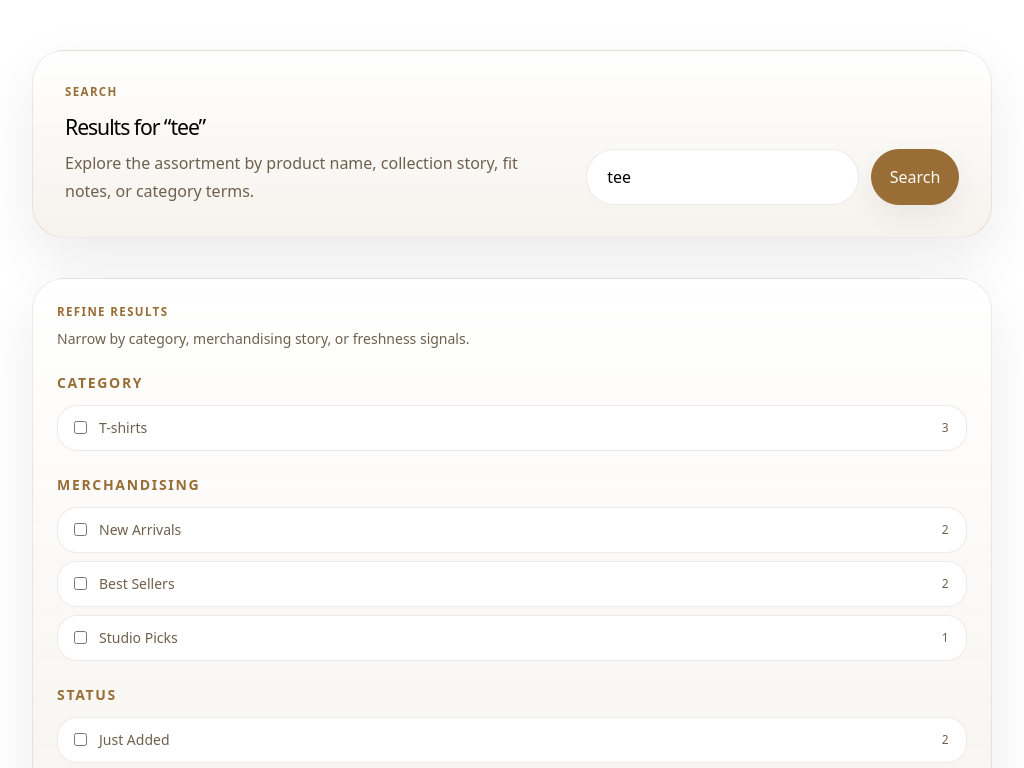
Test: SearchResultsExperience › applies facets to narrow the result set
This screenshot has width=1024, height=768.
Click the checkbox labelled "Best Sellers".
click(80, 584)  # box [74,577,87,590]
(page scrolled)
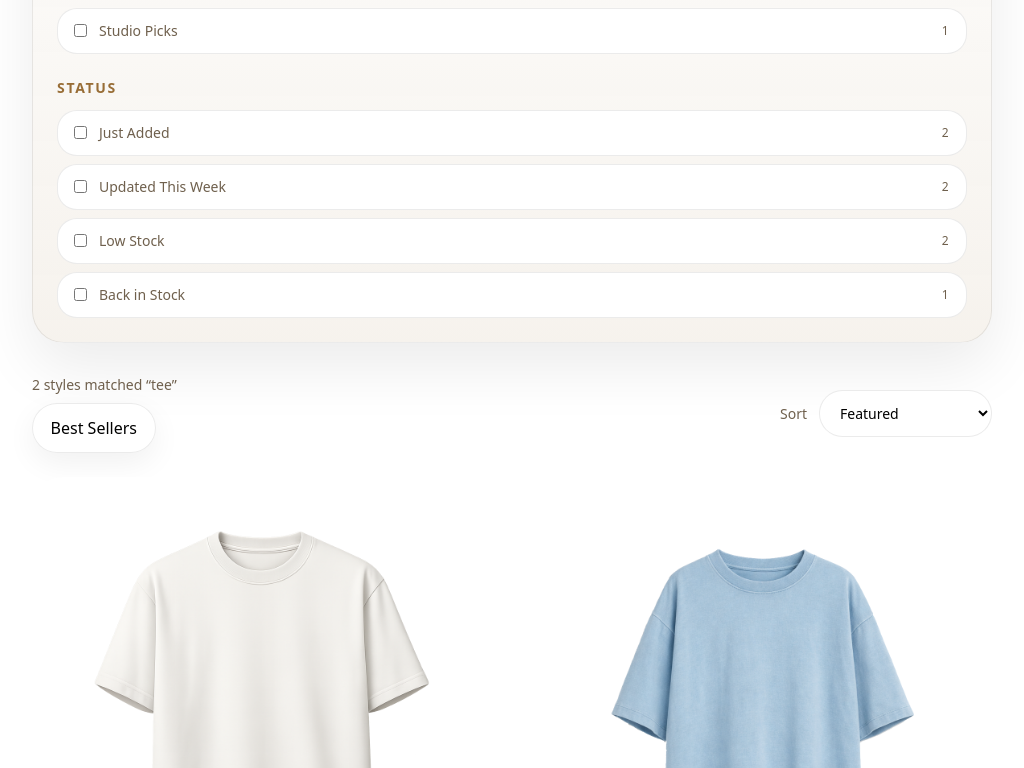
Check: the text "2 styles matched “tee”" is shown, box [32,375,177,395]
